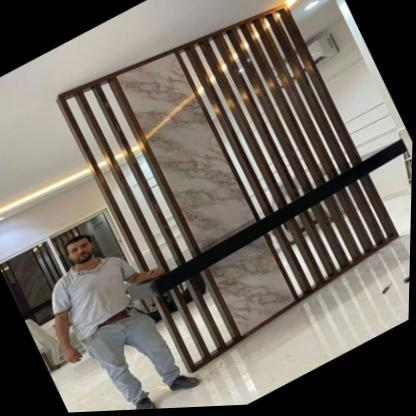Wall Panel: (47, 0, 416, 385)
